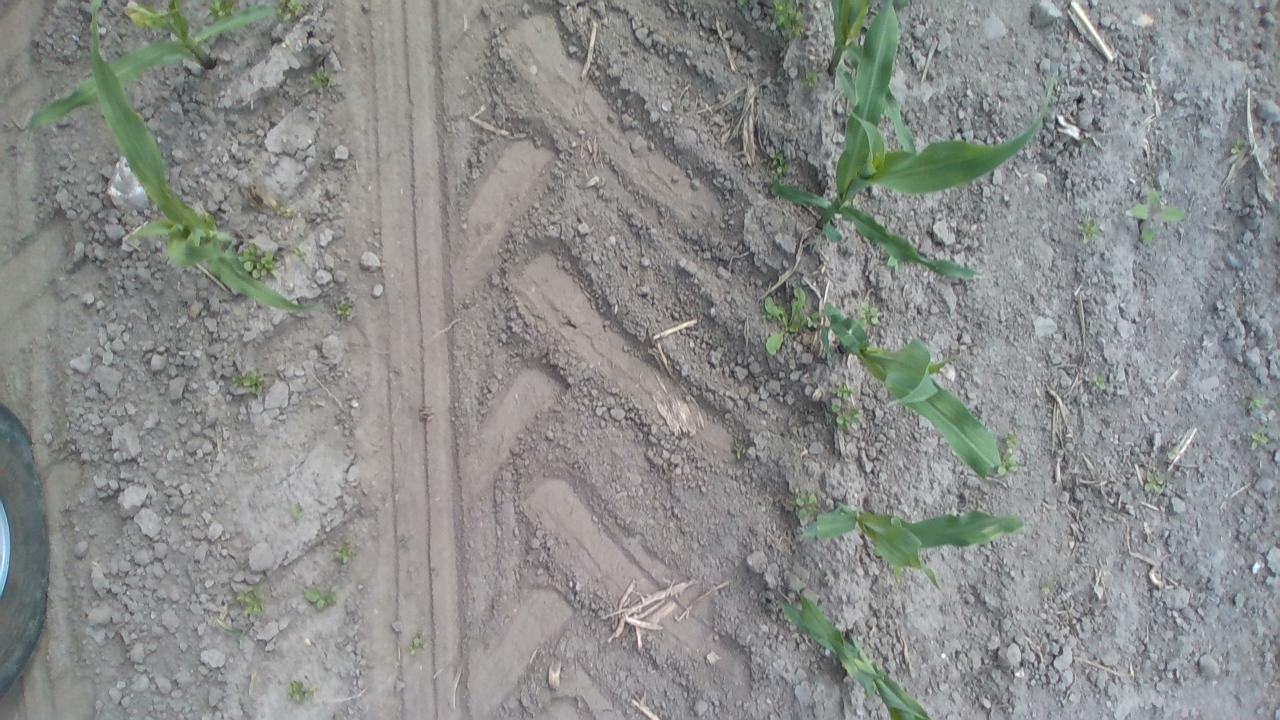Maize: (764, 0, 1060, 284), (86, 0, 326, 319), (816, 299, 1001, 480), (26, 0, 280, 120), (799, 487, 1026, 598), (782, 580, 937, 720), (826, 0, 916, 151)
Weeds: (760, 286, 820, 356), (1126, 188, 1185, 246), (237, 242, 280, 280), (771, 0, 809, 41), (214, 617, 250, 648), (767, 146, 793, 184), (236, 584, 268, 614), (790, 492, 820, 520), (304, 585, 338, 609), (230, 371, 262, 396), (830, 405, 860, 431), (269, 0, 303, 22), (1076, 219, 1103, 246), (307, 65, 333, 91), (285, 680, 314, 702), (996, 448, 1018, 475), (208, 0, 236, 21), (859, 300, 880, 327), (1144, 470, 1166, 494), (801, 70, 822, 92), (831, 382, 857, 399), (335, 544, 357, 564), (1251, 426, 1269, 448), (273, 200, 293, 218), (1230, 138, 1248, 156), (408, 637, 424, 655), (335, 302, 353, 318), (886, 254, 901, 272), (1092, 375, 1108, 391), (1002, 431, 1018, 446), (290, 503, 304, 520), (293, 246, 306, 264), (1248, 398, 1268, 408), (893, 564, 905, 579), (894, 0, 910, 9), (1165, 447, 1178, 458), (734, 446, 742, 460), (874, 546, 882, 558), (1042, 586, 1050, 594), (738, 0, 748, 6)
